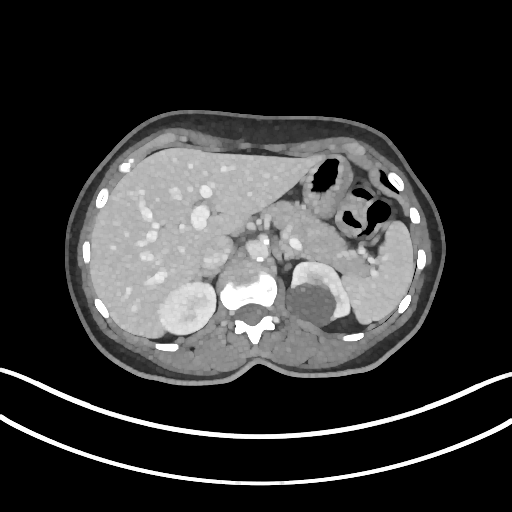Lesion: (287, 280, 339, 327)
